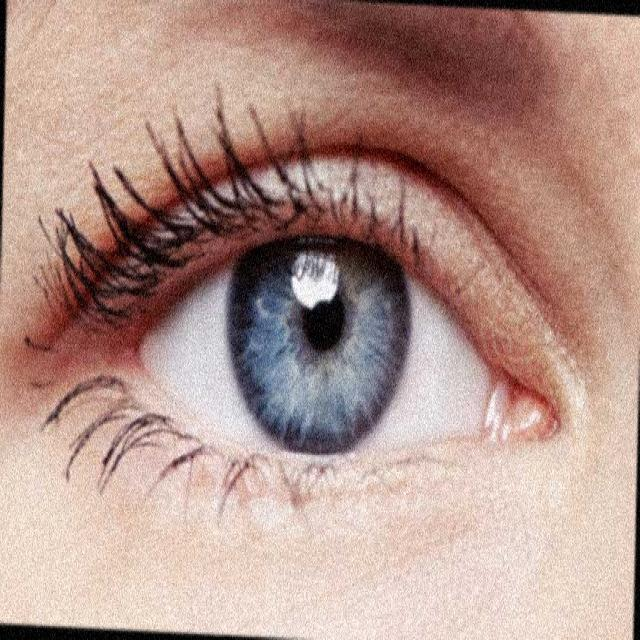Healthy-Eye: (47, 106, 536, 507)
